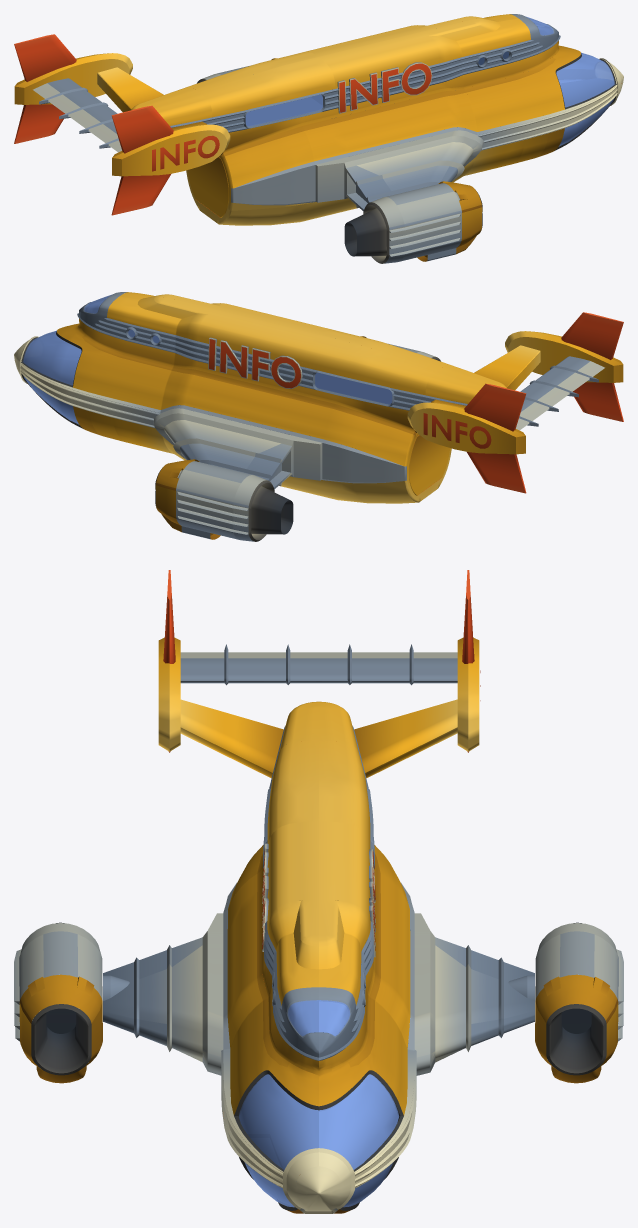
The model's file is lemterprise_only.glb.
The picture shows the model from 3 angles, top to bottom: view 1: azimuth 30°, elevation 25°; view 2: azimuth 150°, elevation 25°; view 3: azimuth 270°, elevation 25°; orthographic projection. The views are drawn at different scales.
Parts seen in each view (by area): view 1: lemterprise_main, lemterprise_dissolve_d, lemterprise_dissolve_a, lemterprise_engines, lemterprise_dissolve_b, lemterprise_dissolve_e, lemterprise_dissolve_c; view 2: lemterprise_main, lemterprise_engines, lemterprise_dissolve_e, lemterprise_dissolve_a, lemterprise_dissolve_c; view 3: lemterprise_main, lemterprise_engines, lemterprise_dissolve_d, lemterprise_dissolve_b, lemterprise_dissolve_a, lemterprise_dissolve_c.
Part boxes in pixels (left/top/right/bottom): lemterprise_main: left=14, top=14, right=623, bottom=225; lemterprise_dissolve_d: left=303, top=88, right=483, bottom=211; lemterprise_dissolve_a: left=319, top=18, right=560, bottom=113; lemterprise_engines: left=197, top=58, right=482, bottom=263; lemterprise_dissolve_b: left=465, top=47, right=621, bottom=142; lemterprise_dissolve_e: left=187, top=126, right=315, bottom=217; lemterprise_dissolve_c: left=199, top=57, right=336, bottom=132; lemterprise_main: left=14, top=296, right=623, bottom=503; lemterprise_engines: left=155, top=336, right=440, bottom=541; lemterprise_dissolve_e: left=409, top=435, right=451, bottom=495; lemterprise_dissolve_a: left=87, top=292, right=330, bottom=334; lemterprise_dissolve_c: left=320, top=329, right=448, bottom=369; lemterprise_main: left=158, top=570, right=534, bottom=1213; lemterprise_engines: left=14, top=922, right=623, bottom=1083; lemterprise_dissolve_d: left=103, top=868, right=268, bottom=1075; lemterprise_dissolve_b: left=221, top=997, right=318, bottom=1187; lemterprise_dissolve_a: left=262, top=821, right=318, bottom=1060; lemterprise_dissolve_c: left=263, top=741, right=318, bottom=868.
Bounding box in the file's own units: 33.16 × 10.66 × 20.41.
7 materials, 4 textured.
